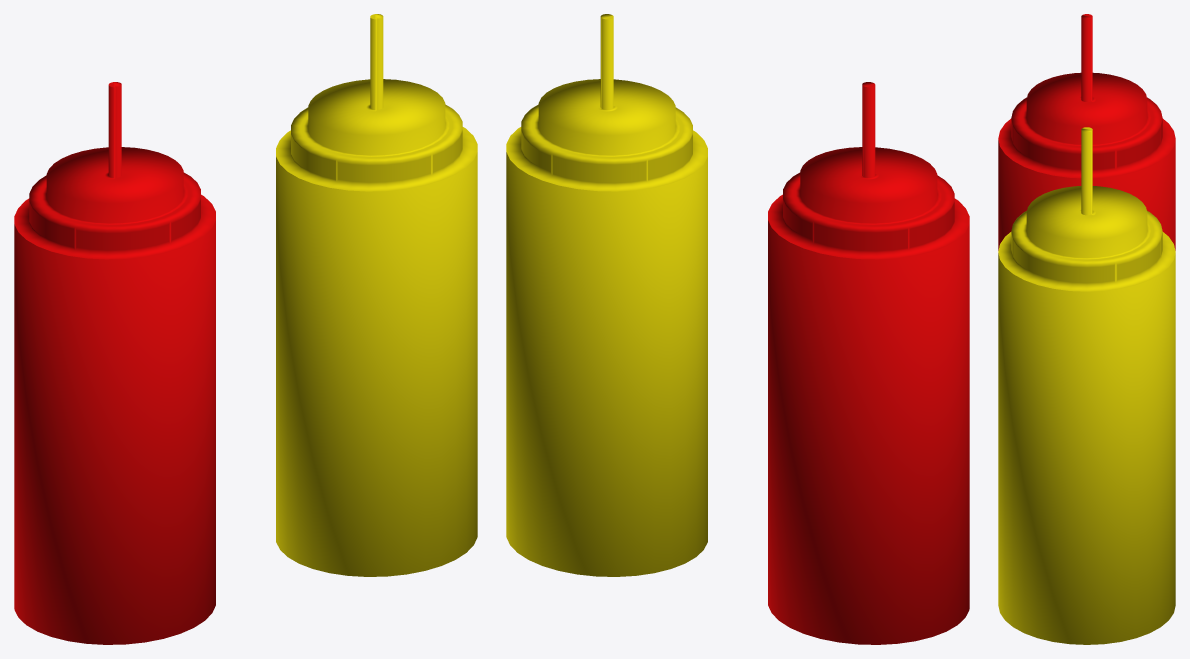
3 views of the same model, side by side, from view 1: azimuth 30°, elevation 25°; view 2: azimuth 150°, elevation 25°; view 3: azimuth 270°, elevation 25° (orthographic). The views are drawn at different scales.
Visible parts, largest first — view 1: Cylinder, Cylinder.001; view 2: Cylinder, Cylinder.001; view 3: Cylinder, Cylinder.001.
Part boxes in pixels (bbox=[...]): Cylinder: bbox=[276, 14, 477, 576]; Cylinder.001: bbox=[14, 82, 215, 644]; Cylinder: bbox=[506, 14, 707, 576]; Cylinder.001: bbox=[768, 82, 969, 644]; Cylinder: bbox=[998, 127, 1175, 644]; Cylinder.001: bbox=[998, 14, 1175, 250].
Bounding box in the file's own units: 503 × 573 × 192.
